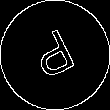P_SE: (27, 24, 83, 86)
